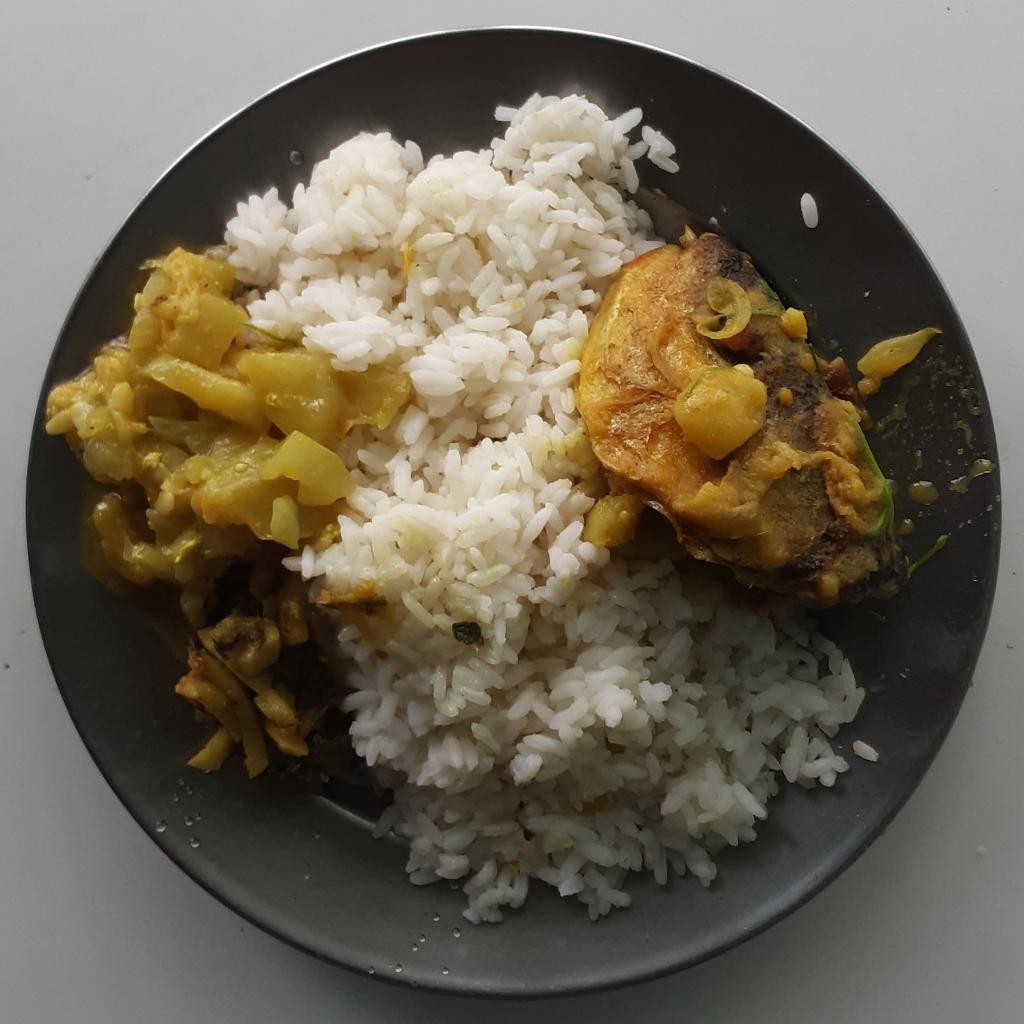fish: (580, 229, 911, 610)
korola-vaji: (174, 554, 344, 790)
lau: (43, 242, 413, 648)
rice: (220, 96, 875, 931)
